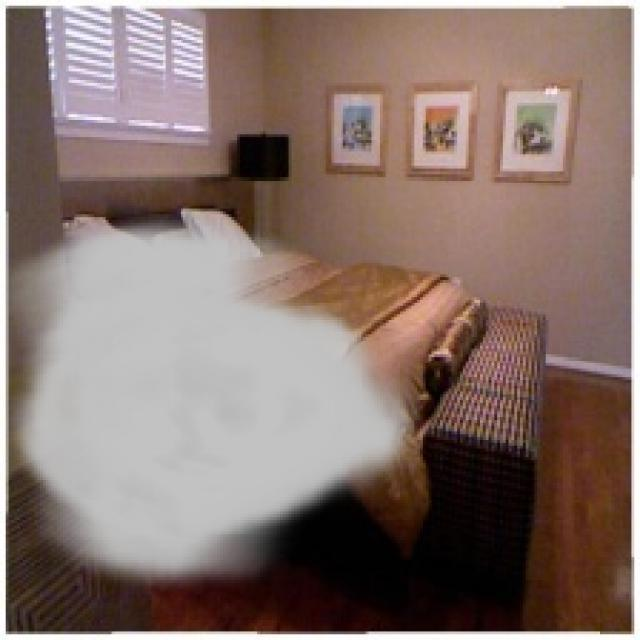smoke: (6, 214, 423, 597)
